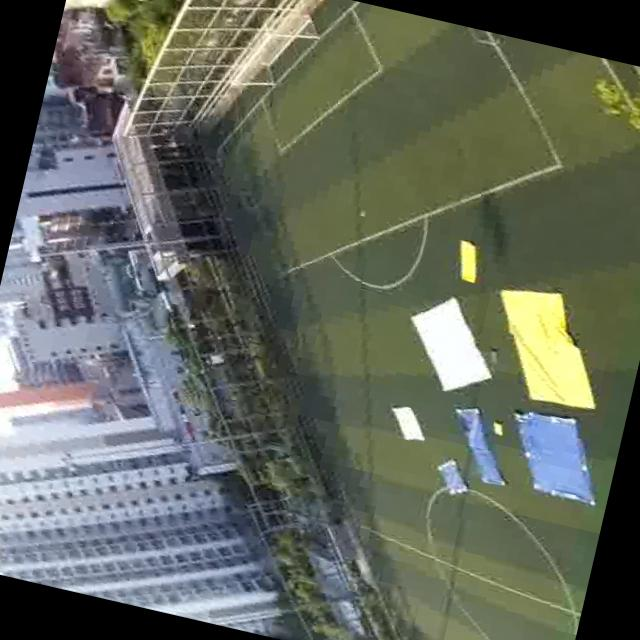danger: (501, 404, 607, 502), (446, 402, 494, 449), (431, 458, 474, 496)
safety: (406, 292, 500, 396), (383, 400, 432, 446)
warning: (502, 284, 608, 409), (448, 235, 491, 288)
